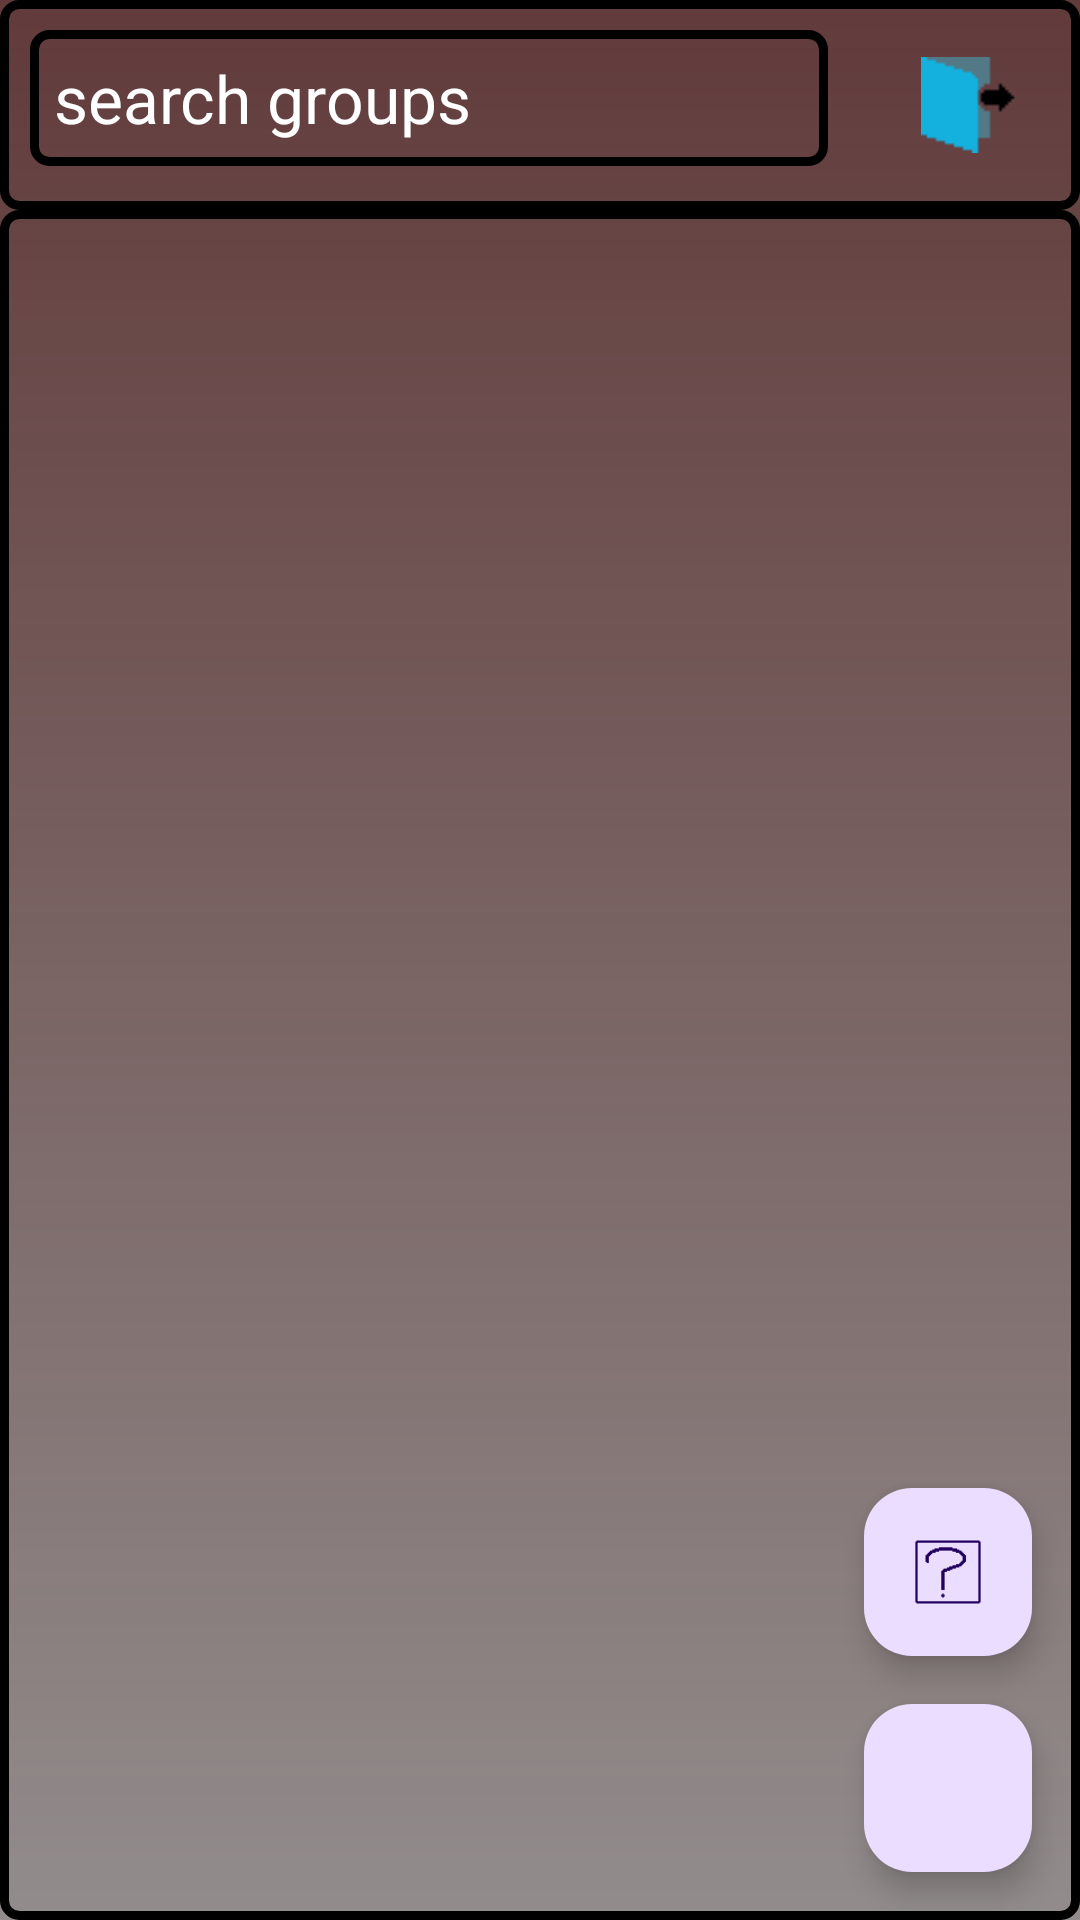

Icon click points for this 1080*1920 phone screenshot, format (x=x, y=y):
log out door: (x=968, y=105)
